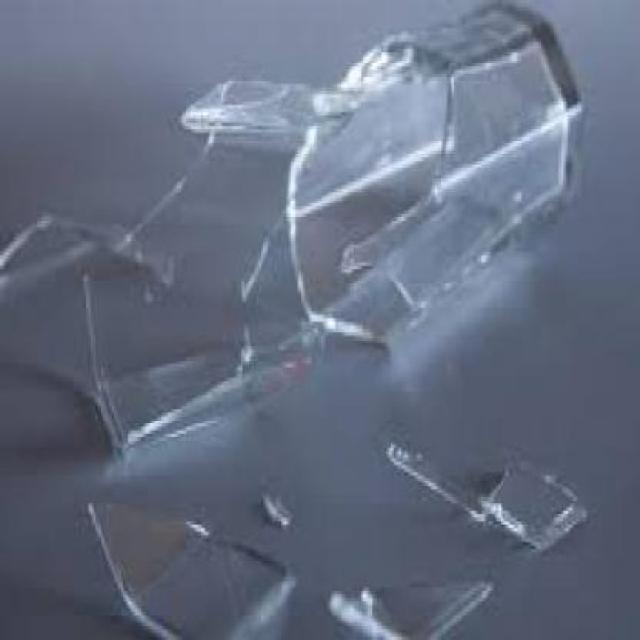kaca: (286, 0, 582, 346), (78, 255, 322, 440), (85, 500, 289, 637), (386, 445, 585, 549), (110, 126, 232, 266), (0, 209, 172, 290), (177, 74, 354, 137), (236, 195, 310, 343), (321, 577, 494, 637), (259, 483, 286, 517)
